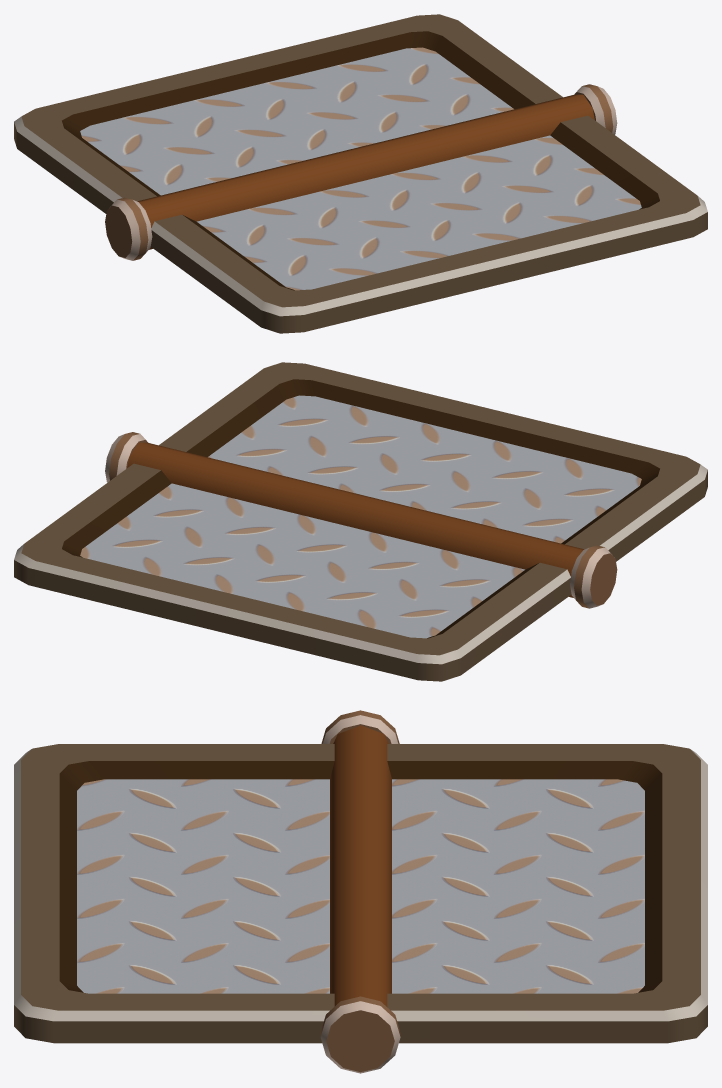
File: obstacle_15_001.fbx
3 renders of one model, top to bottom at view 1: azimuth 30°, elevation 25°; view 2: azimuth 150°, elevation 25°; view 3: azimuth 270°, elevation 25°, orthographic. The views are drawn at different scales.
Visible parts, largest first — view 1: obstacle_15_001; view 2: obstacle_15_001; view 3: obstacle_15_001.
Boxes of the visible parts, left/top/right/bottom form: obstacle_15_001: left=14, top=14, right=707, bottom=333; obstacle_15_001: left=14, top=362, right=707, bottom=681; obstacle_15_001: left=14, top=710, right=707, bottom=1073.
Bounding box in the file's own units: 339 × 333 × 38.43.
